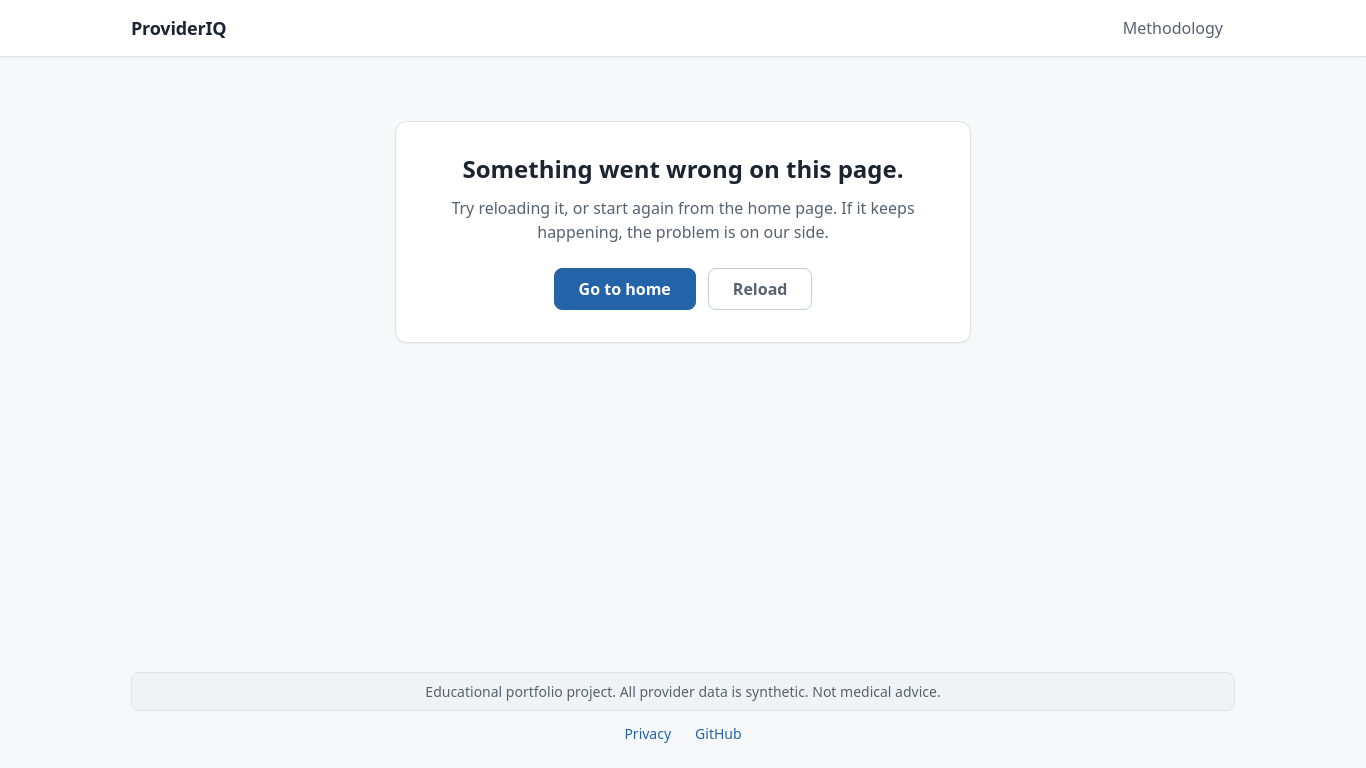
it: ErrorBoundary › "Go to home" navigates away and clears the error
Click the button "Go to home" at [625, 289], box [554,268,696,310]
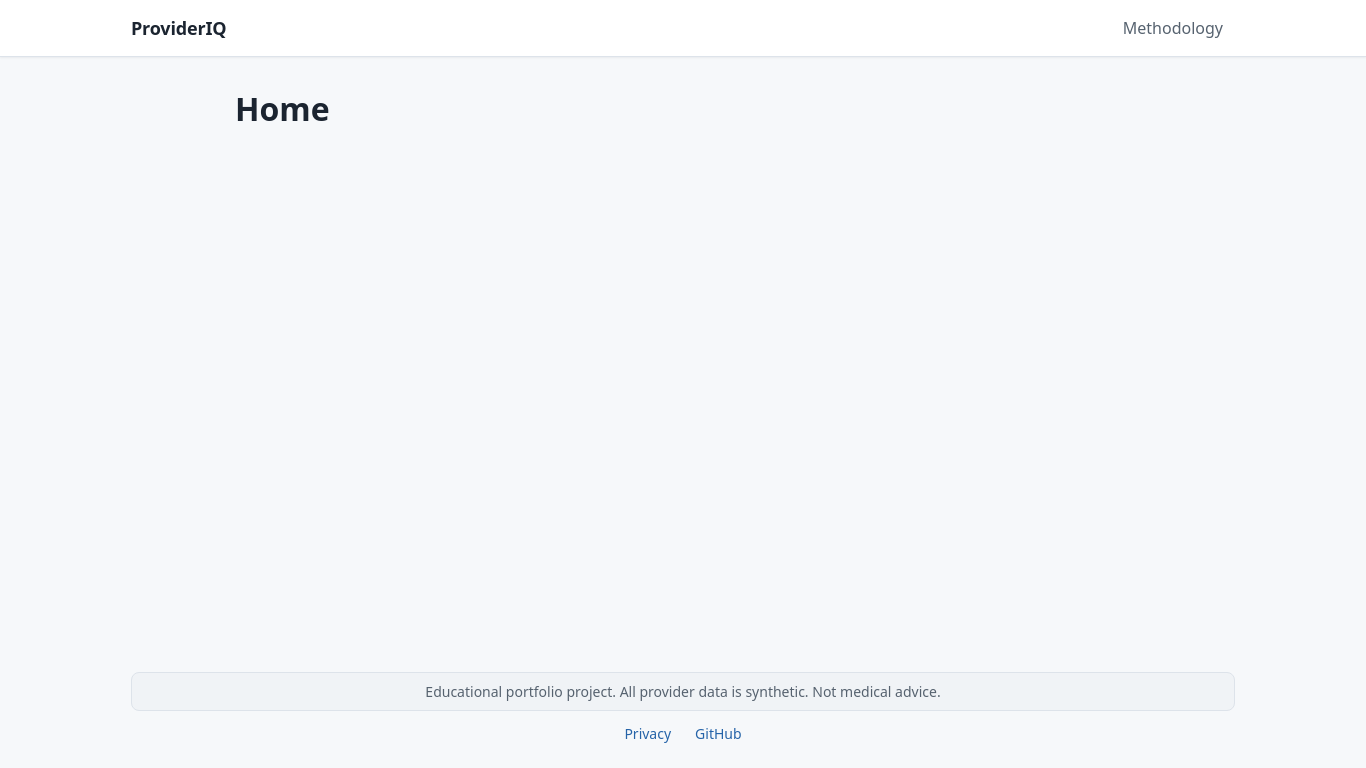
Expected: the heading "Home" is shown, [235,87,330,130]
Expected: the message is gone
